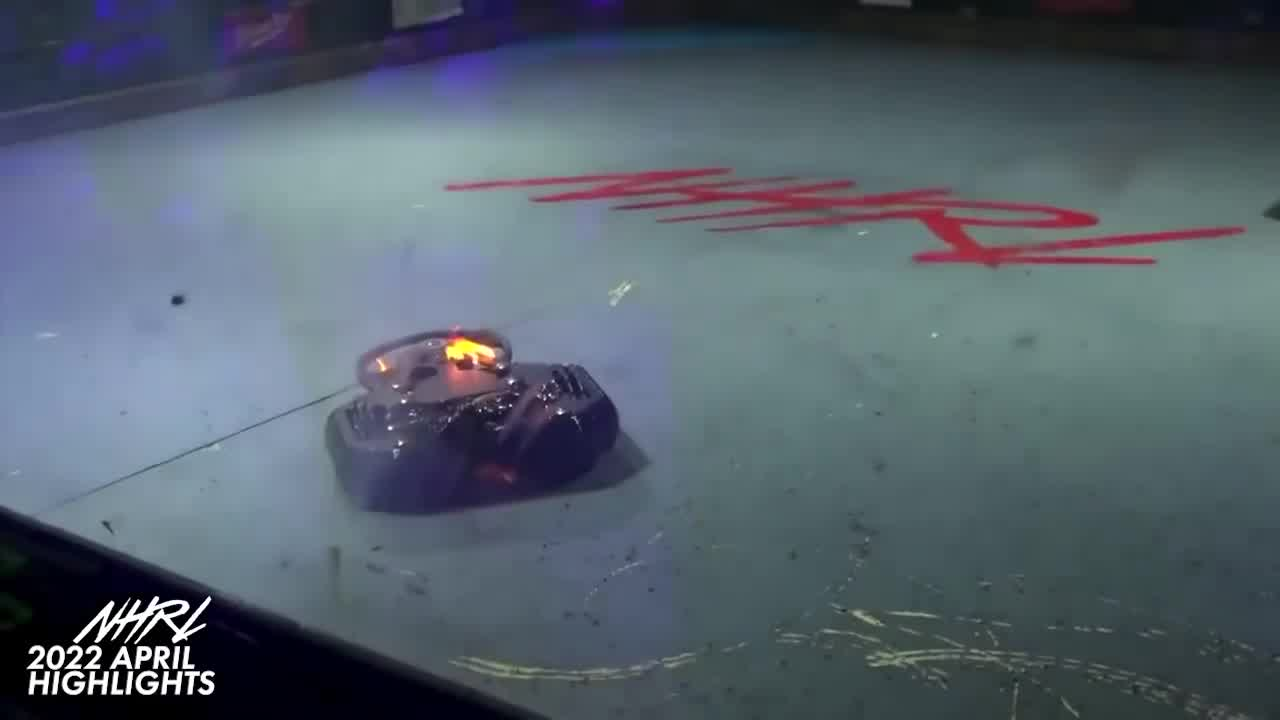combatbot: (332, 325, 619, 515)
